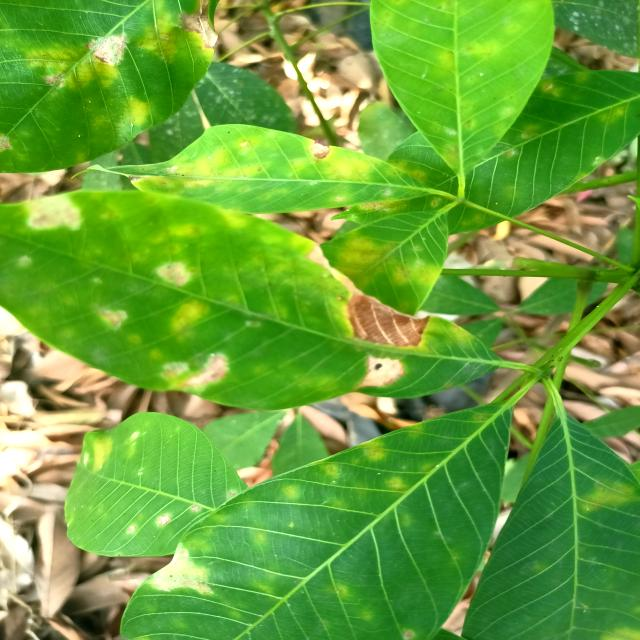Leaf-Blight: (305, 243, 430, 348), (150, 542, 212, 595), (24, 192, 84, 230), (180, 0, 217, 47), (183, 354, 232, 389), (358, 354, 404, 388), (156, 262, 190, 285), (310, 142, 330, 160)
